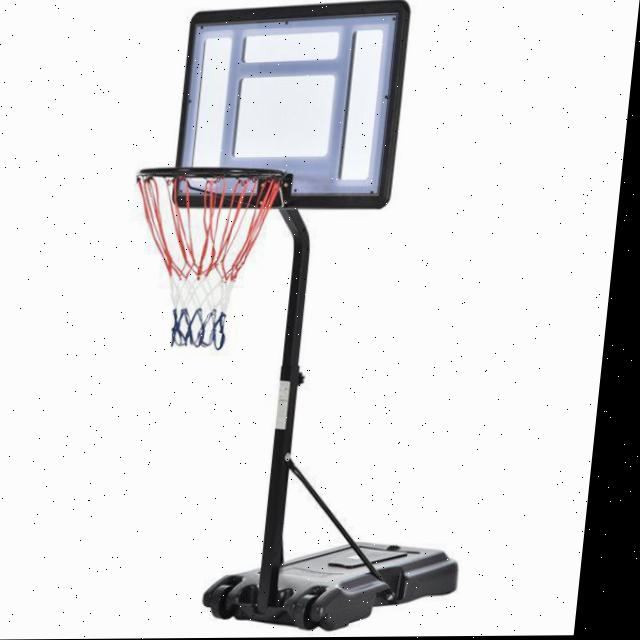hoop: (118, 167, 286, 351)
